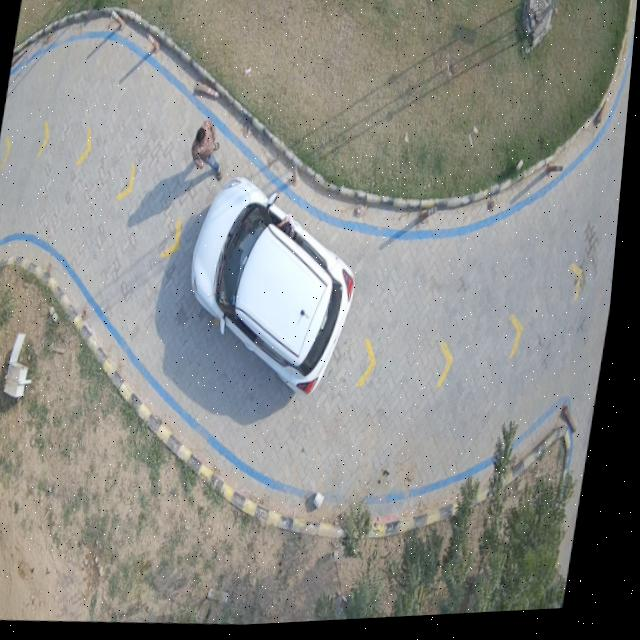car: (195, 182, 360, 400)
